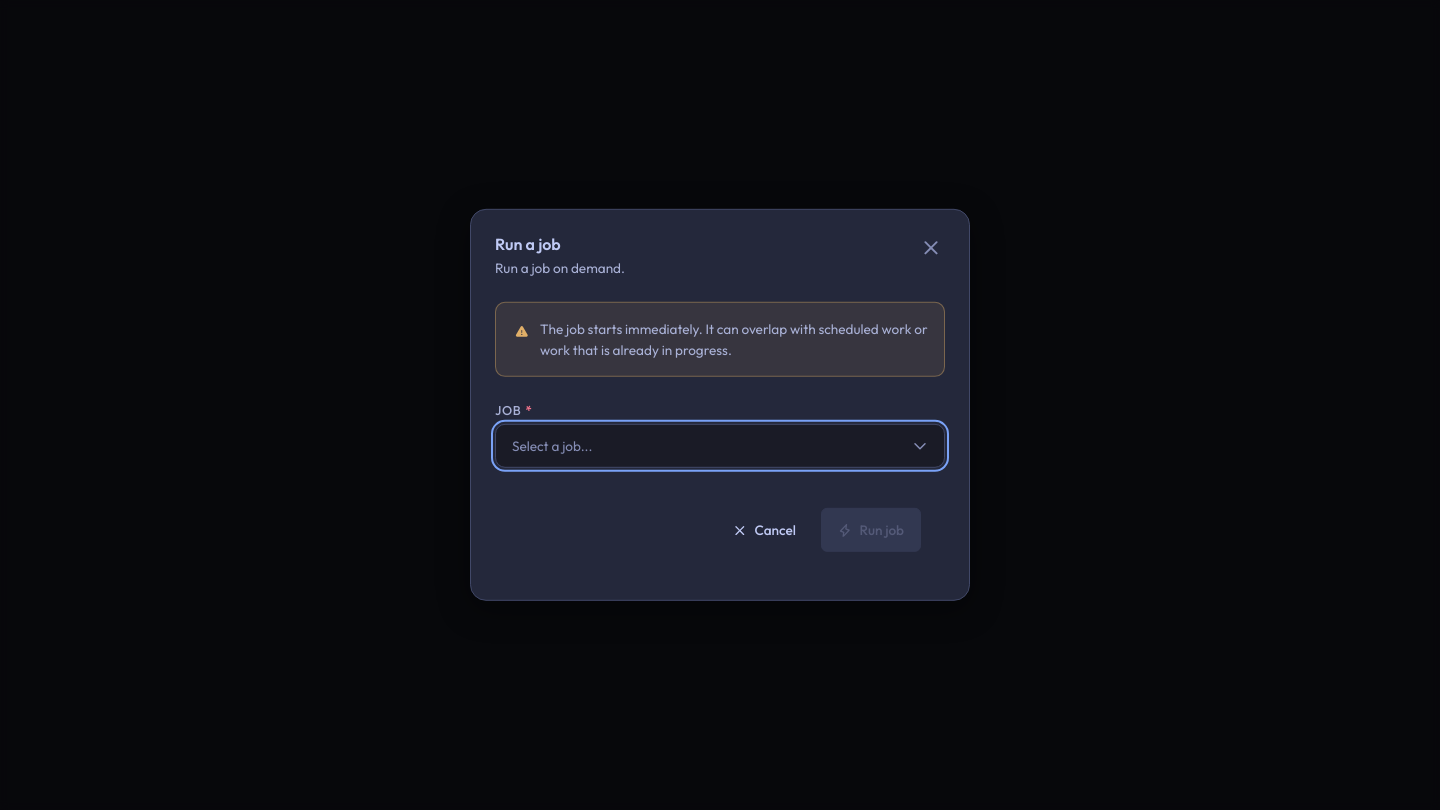
Test case: RunJobDialog parameters › queues a job that cannot run immediately and says so
Click the dropdown labelled "Select a job..." at {"x": 552, "y": 446}, box [495,424,945,468]
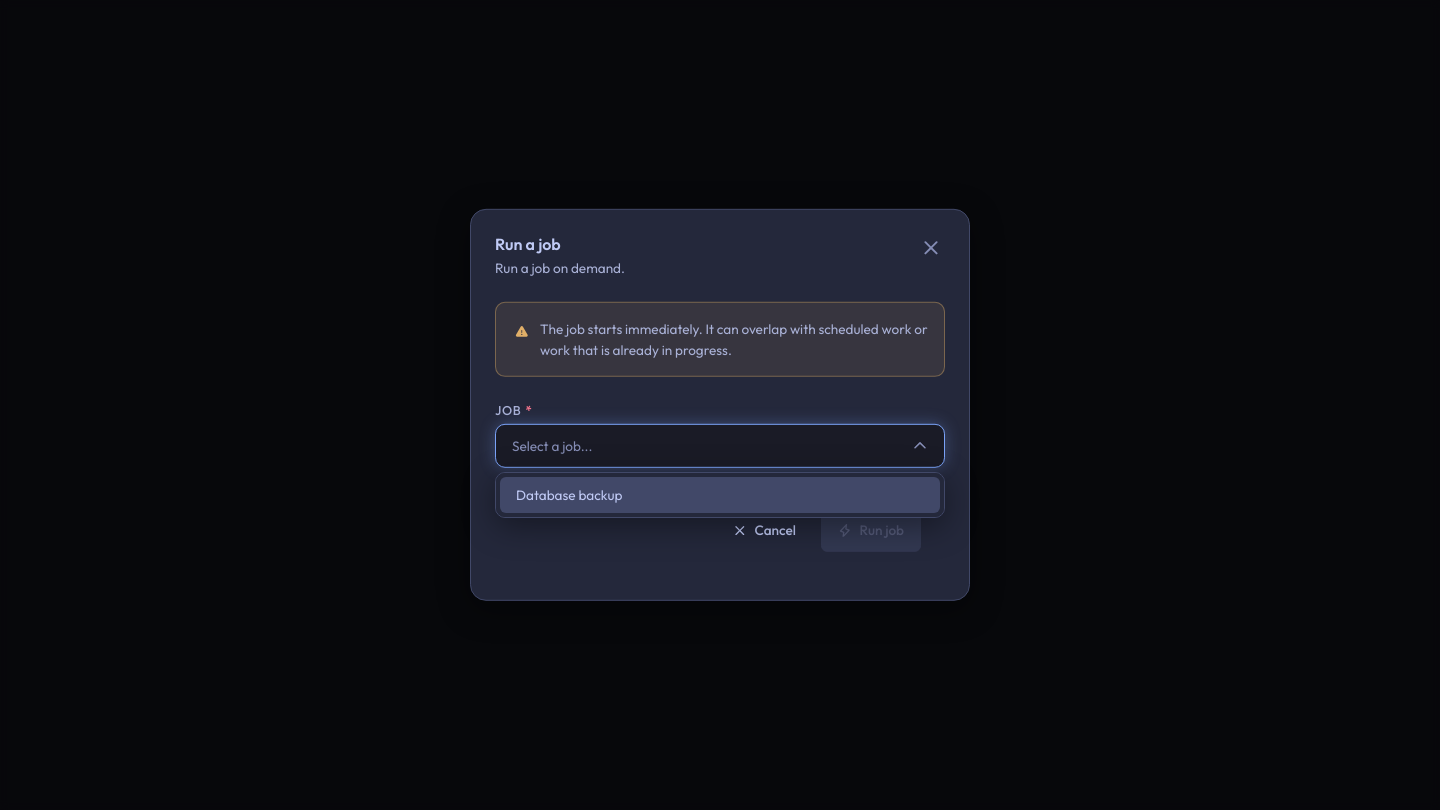
Click the option "Database backup" at {"x": 569, "y": 495}, box [500,477,940,513]
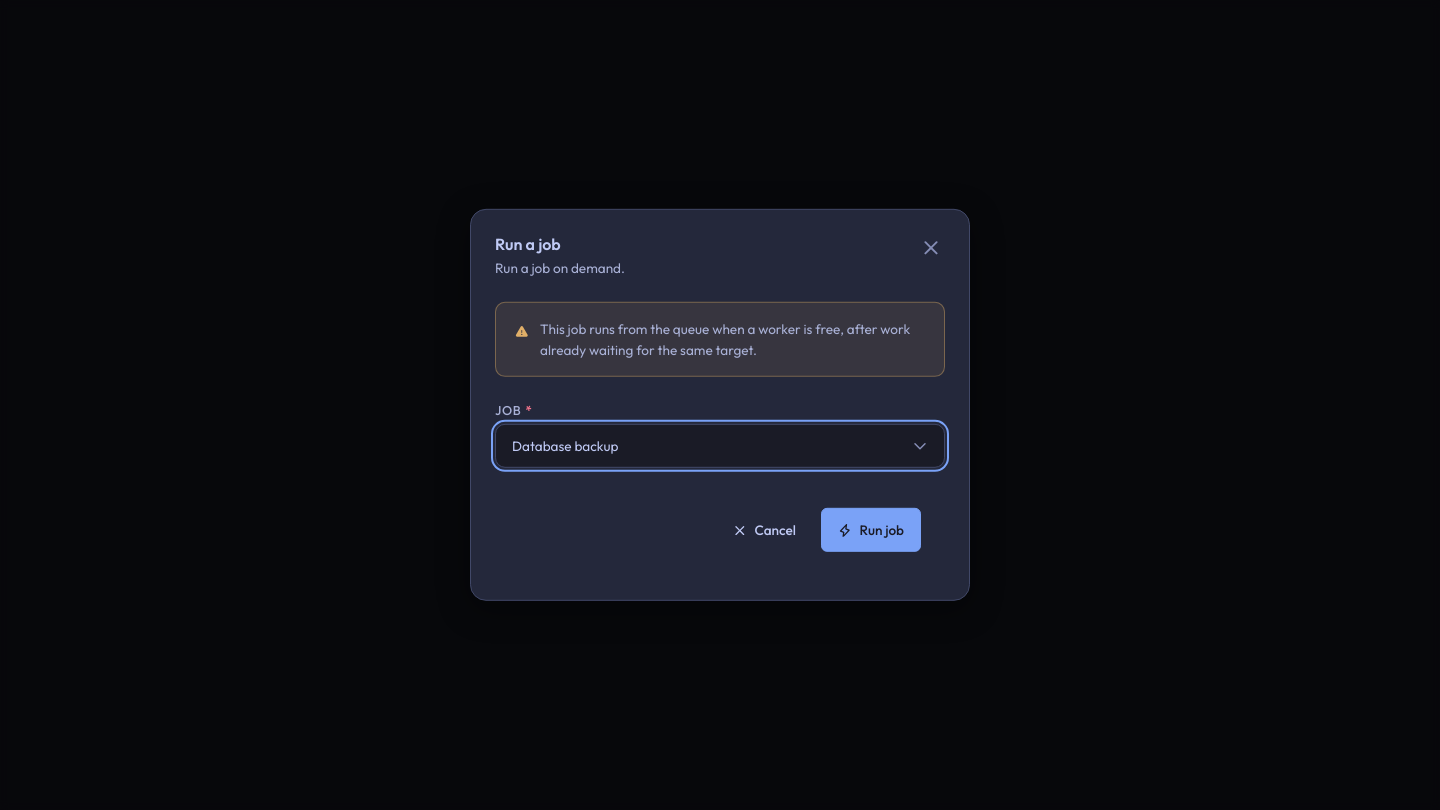
Check: the message with test id "run-job-dialog__caution" shows "runs from the queue", box [540,320,910,359]
Click the button "Run job" at {"x": 871, "y": 530}, box [821,508,921,552]
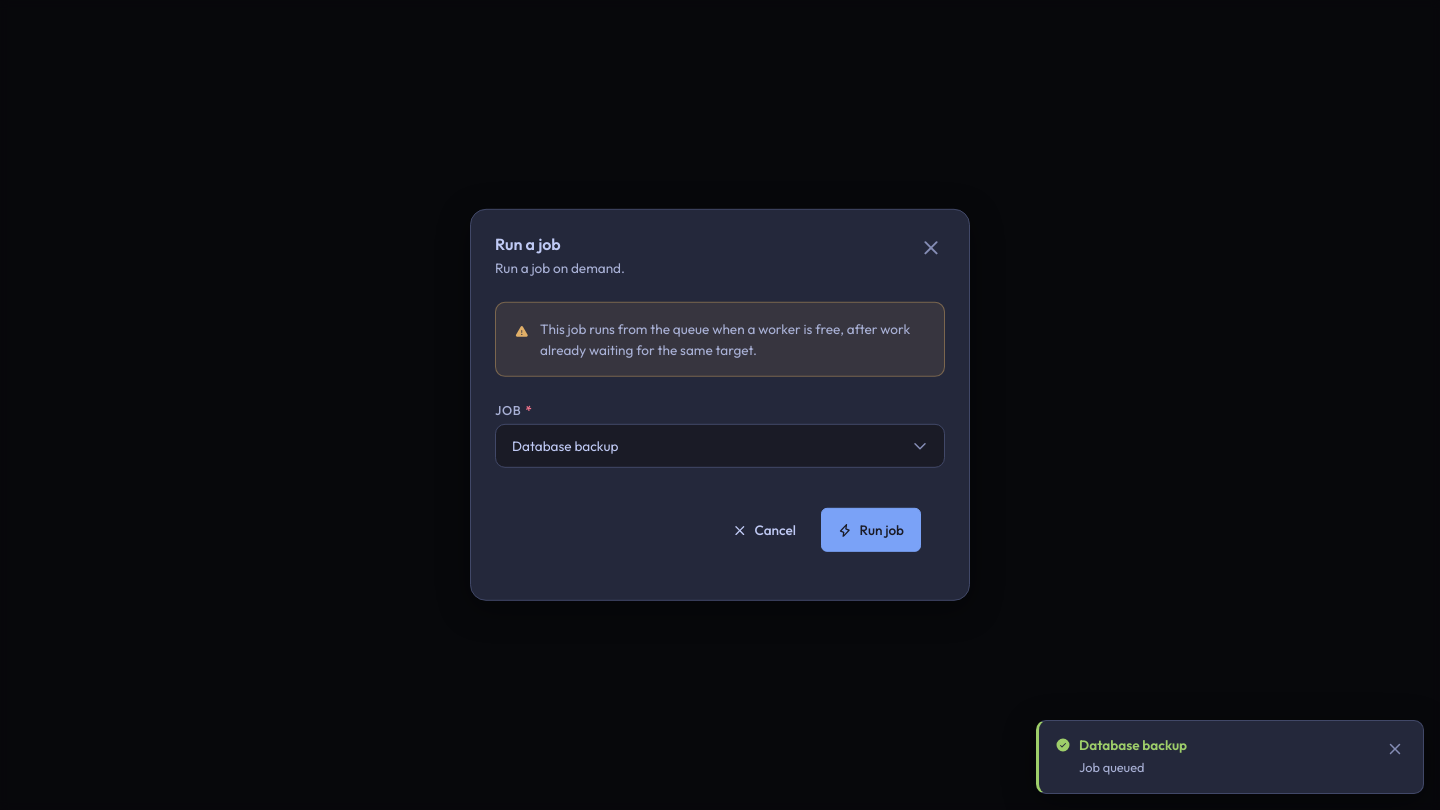
Check: the text "Job queued" is shown, box [1079,759,1144,775]
